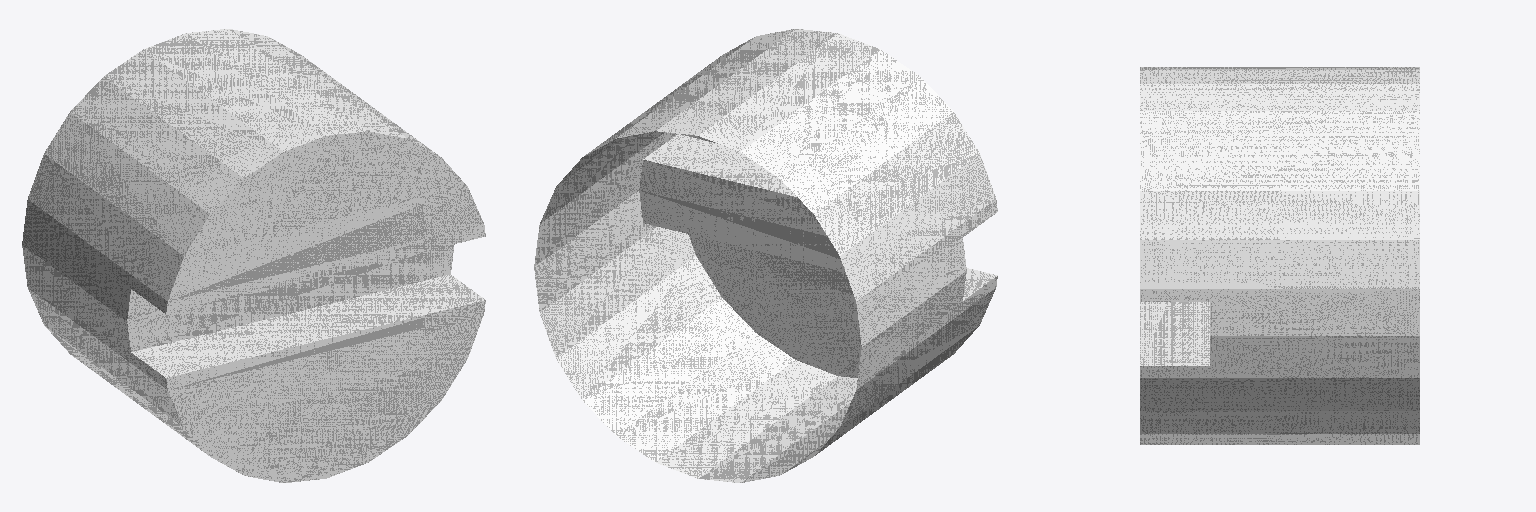
Rendered from original-4.obj.
3 views of the same model, side by side, from view 1: azimuth 30°, elevation 25°; view 2: azimuth 150°, elevation 25°; view 3: azimuth 270°, elevation 25° (orthographic).
Parts seen in each view (by area): view 1: #ID61; view 2: #ID61; view 3: #ID61.
Part boxes in pixels (left/top/right/bottom): #ID61: left=22, top=29, right=485, bottom=482; #ID61: left=534, top=29, right=997, bottom=482; #ID61: left=1140, top=67, right=1419, bottom=444.
Bounding box in the file's own units: 0.0641 × 0.0641 × 0.0475.